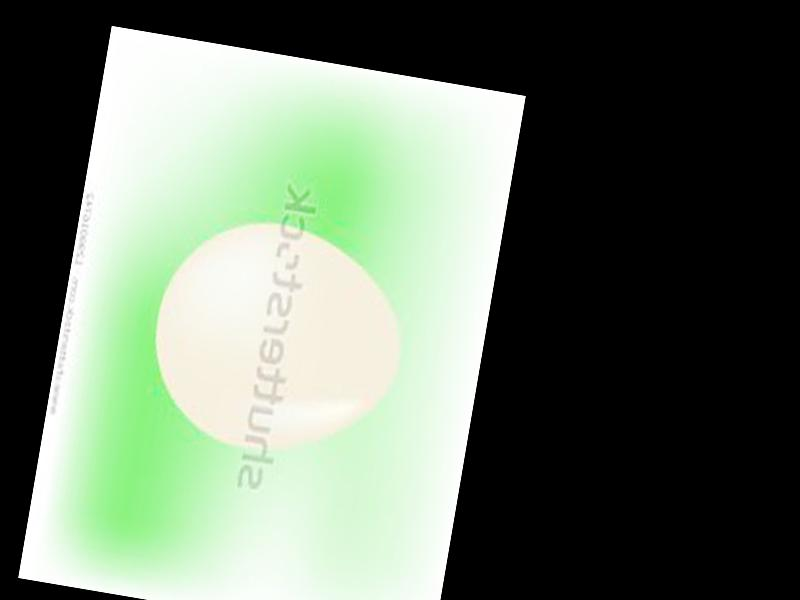Eggs: (140, 206, 417, 469)
